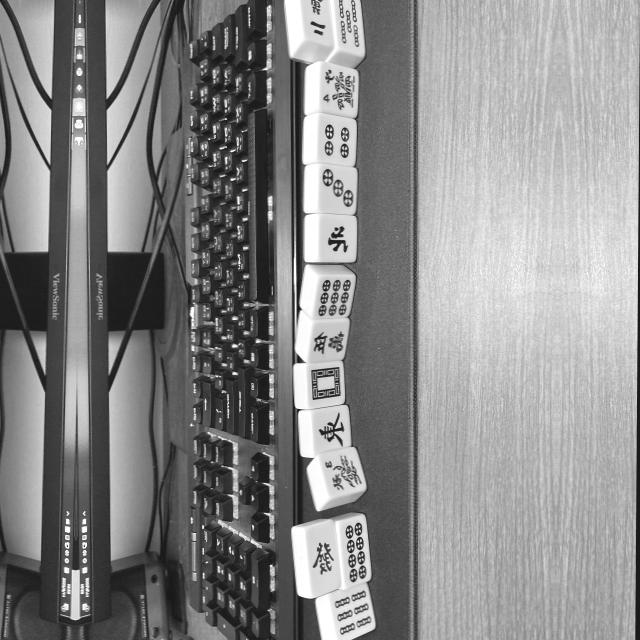bai: (305, 364, 343, 408)
east: (311, 407, 350, 454)
f4: (319, 66, 359, 118)
fa: (305, 522, 341, 595)
ff3: (320, 450, 367, 499)
m2: (300, 0, 336, 46)
m5: (308, 322, 347, 363)
north: (317, 217, 354, 263)
s5: (332, 1, 364, 55)
s6: (330, 584, 375, 640)
t3: (319, 164, 357, 214)
t4: (319, 116, 356, 166)
t8: (335, 516, 369, 588)
t9: (313, 274, 353, 320)
